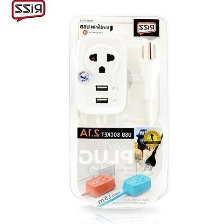book: (63, 11, 174, 212)
three_eye_plug: (71, 28, 131, 117)
